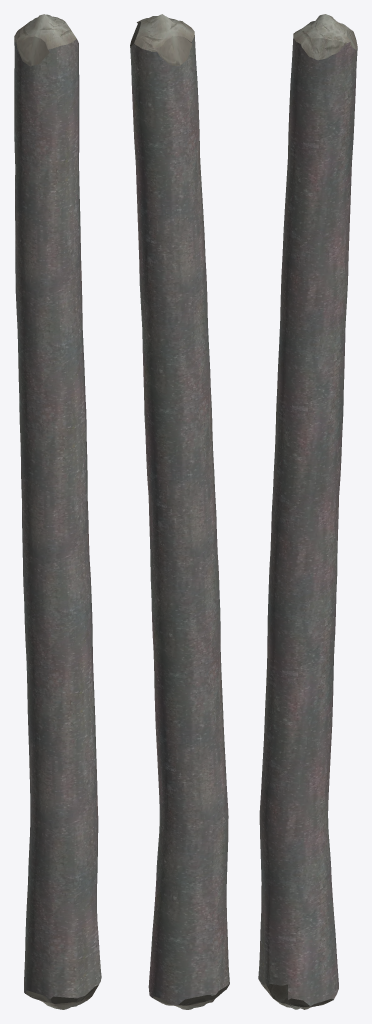
The picture shows the model from 3 angles, left to right: view 1: azimuth 90°, elevation 25°; view 2: azimuth 150°, elevation 25°; view 3: azimuth 330°, elevation 25°; orthographic projection.
Parts seen in each view (by area): view 1: SM_GF_Ash_Tree_02_tree_quarters_bottom_LOD0; view 2: SM_GF_Ash_Tree_02_tree_quarters_bottom_LOD0; view 3: SM_GF_Ash_Tree_02_tree_quarters_bottom_LOD0.
Part boxes in pixels (<box>): SM_GF_Ash_Tree_02_tree_quarters_bottom_LOD0: <box>14,14,101,1009</box>; SM_GF_Ash_Tree_02_tree_quarters_bottom_LOD0: <box>130,14,229,1009</box>; SM_GF_Ash_Tree_02_tree_quarters_bottom_LOD0: <box>258,14,357,1009</box>.
Size of the model in its own units: 0.5402 by 6.34 by 0.5092.
Materials: 1 (1 with a texture image).
